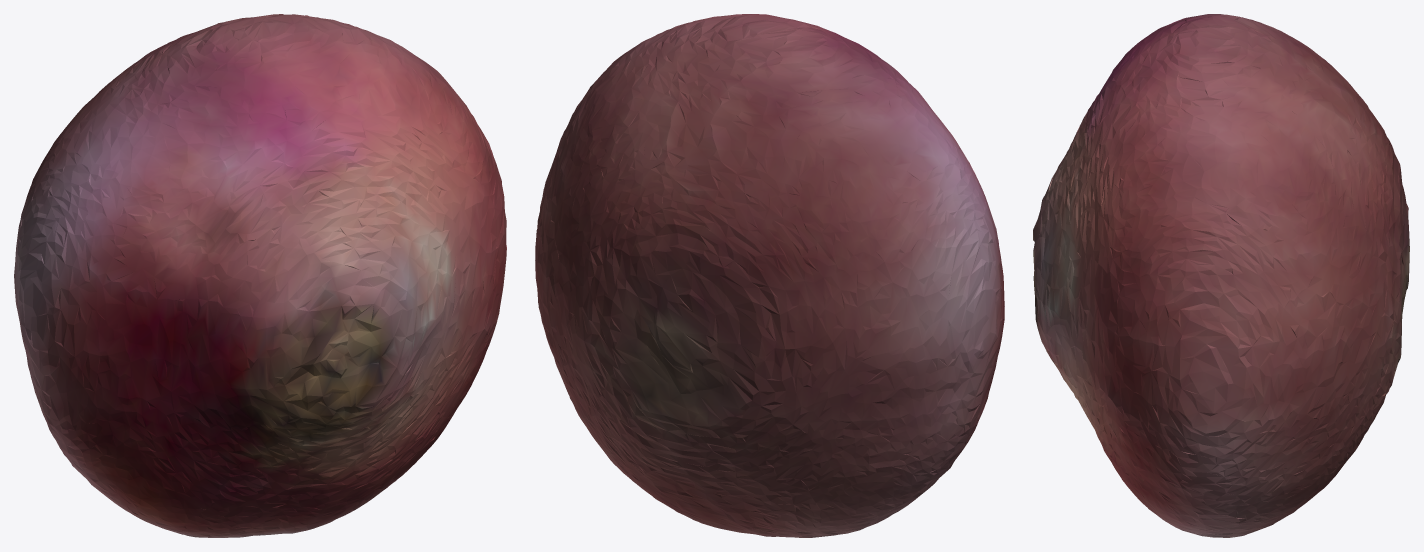
The model's file is onion_3.glb.
3 renders of one model, left to right at view 1: azimuth 30°, elevation 25°; view 2: azimuth 150°, elevation 25°; view 3: azimuth 270°, elevation 25°, orthographic. The views are drawn at different scales.
Visible parts, largest first — view 1: geometry_0; view 2: geometry_0; view 3: geometry_0.
Part boxes in pixels (x1,y1,x2,y2): geometry_0: [14, 14, 506, 537]; geometry_0: [535, 14, 1004, 537]; geometry_0: [1033, 14, 1409, 537].
Size of the model in its own units: 0.9376 by 1 by 0.719.
